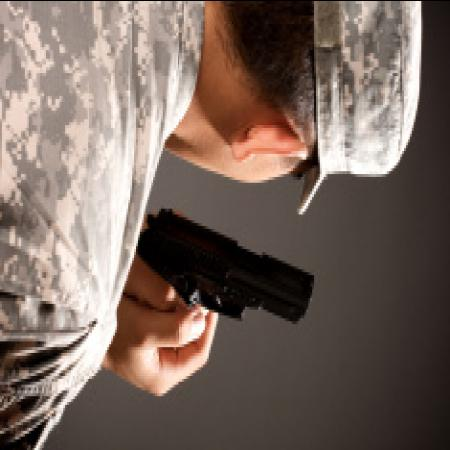Pistol: (148, 190, 312, 370)
